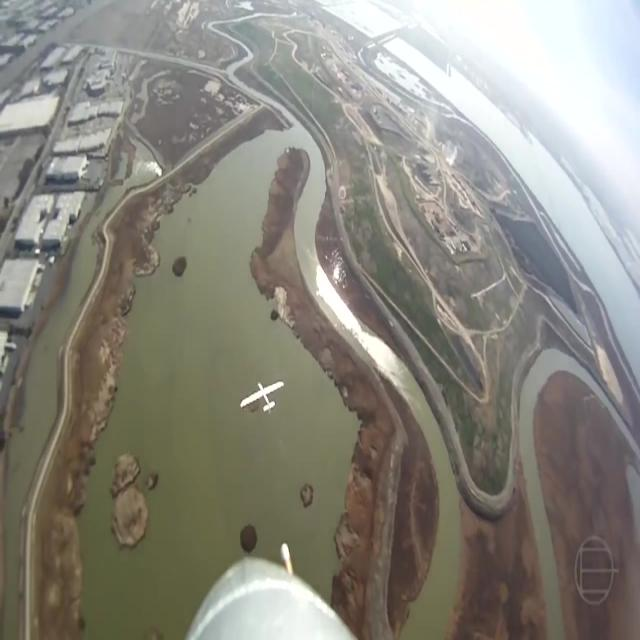iha: (240, 379, 284, 415)
